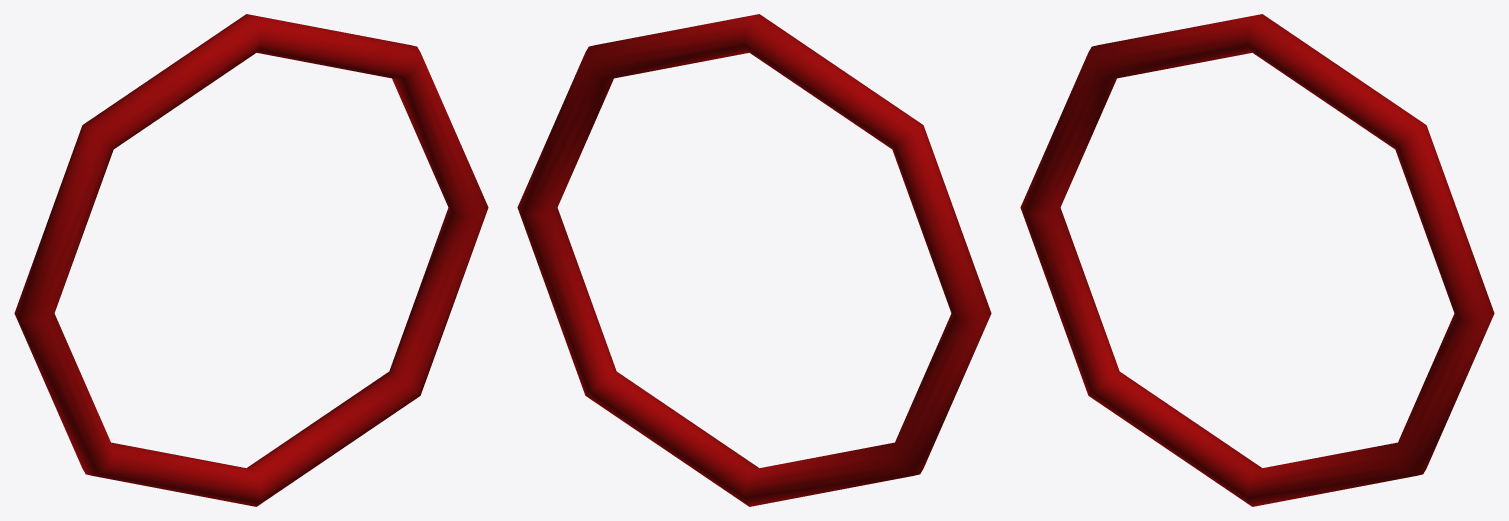
Rendered from RingRed.FBX.
3 renders of one model, left to right at view 1: azimuth 30°, elevation 25°; view 2: azimuth 150°, elevation 25°; view 3: azimuth 330°, elevation 25°, orthographic.
Visible parts, largest first — view 1: Torus01; view 2: Torus01; view 3: Torus01.
Part boxes in pixels (x1,y1,x2,y2): Torus01: [14, 14, 488, 506]; Torus01: [517, 14, 991, 506]; Torus01: [1020, 14, 1494, 506].
Size of the model in its own units: 108 by 108 by 8.
1 material, 1 textured.
